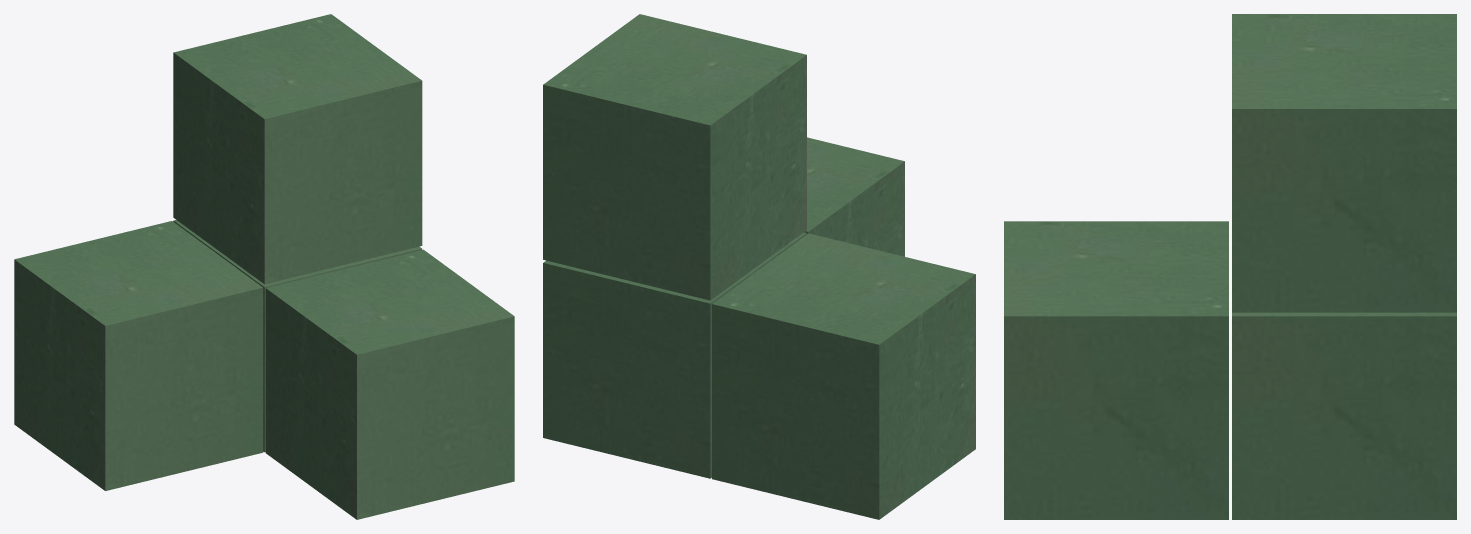
File: dark_green.glb
The picture shows the model from 3 angles, left to right: view 1: azimuth 30°, elevation 25°; view 2: azimuth 150°, elevation 25°; view 3: azimuth 270°, elevation 25°; orthographic projection. The views are drawn at different scales.
Visible parts, largest first — view 1: Cube.002; view 2: Cube.002; view 3: Cube.002.
Boxes of the visible parts, bbox=[...] form: Cube.002: bbox=[14, 14, 514, 519]; Cube.002: bbox=[543, 14, 975, 519]; Cube.002: bbox=[1004, 14, 1456, 519].
Bounding box in the file's own units: 0.1205 × 0.121 × 0.1208.
1 material, 1 textured.
